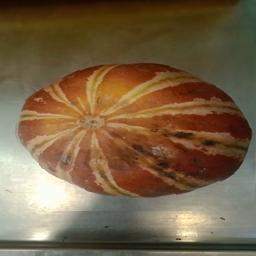Melon Semirotten: (12, 44, 256, 211)
